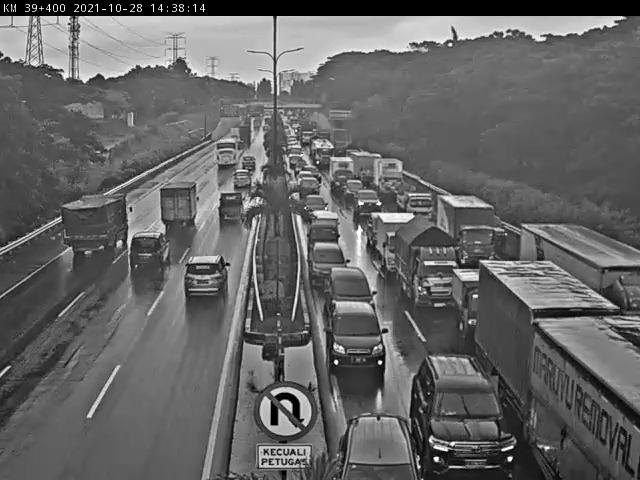big bus: (208, 134, 243, 177)
big truck: (474, 258, 609, 397), (538, 314, 640, 480), (513, 218, 640, 316), (52, 188, 129, 266), (437, 190, 498, 271), (401, 220, 460, 302), (154, 176, 204, 236), (376, 212, 423, 274), (397, 190, 439, 223)
car: (414, 343, 519, 479), (322, 295, 392, 386), (342, 411, 422, 480), (182, 240, 245, 307), (319, 260, 382, 316), (131, 221, 184, 281), (305, 237, 353, 289), (366, 211, 392, 249), (353, 188, 385, 217), (226, 173, 255, 195), (238, 153, 260, 174)
small truck: (452, 268, 493, 329), (212, 195, 249, 241)
